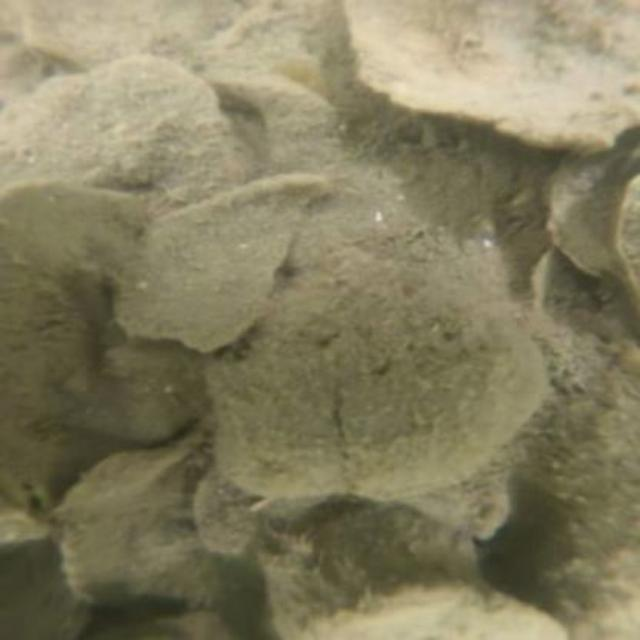Oyster-Closed: (206, 253, 551, 501), (333, 0, 640, 155), (50, 425, 257, 616), (119, 175, 329, 352), (1, 58, 250, 201), (255, 511, 495, 630), (282, 576, 574, 640), (548, 126, 640, 284), (617, 174, 639, 299)
